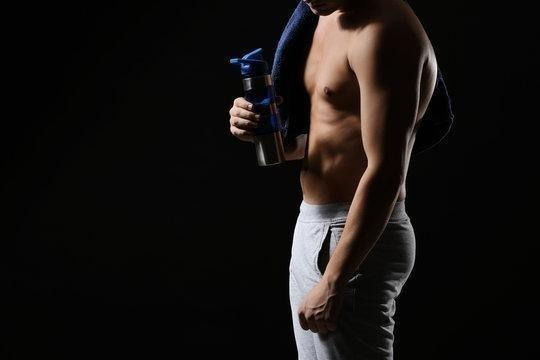gym bottle: (230, 47, 288, 168)
